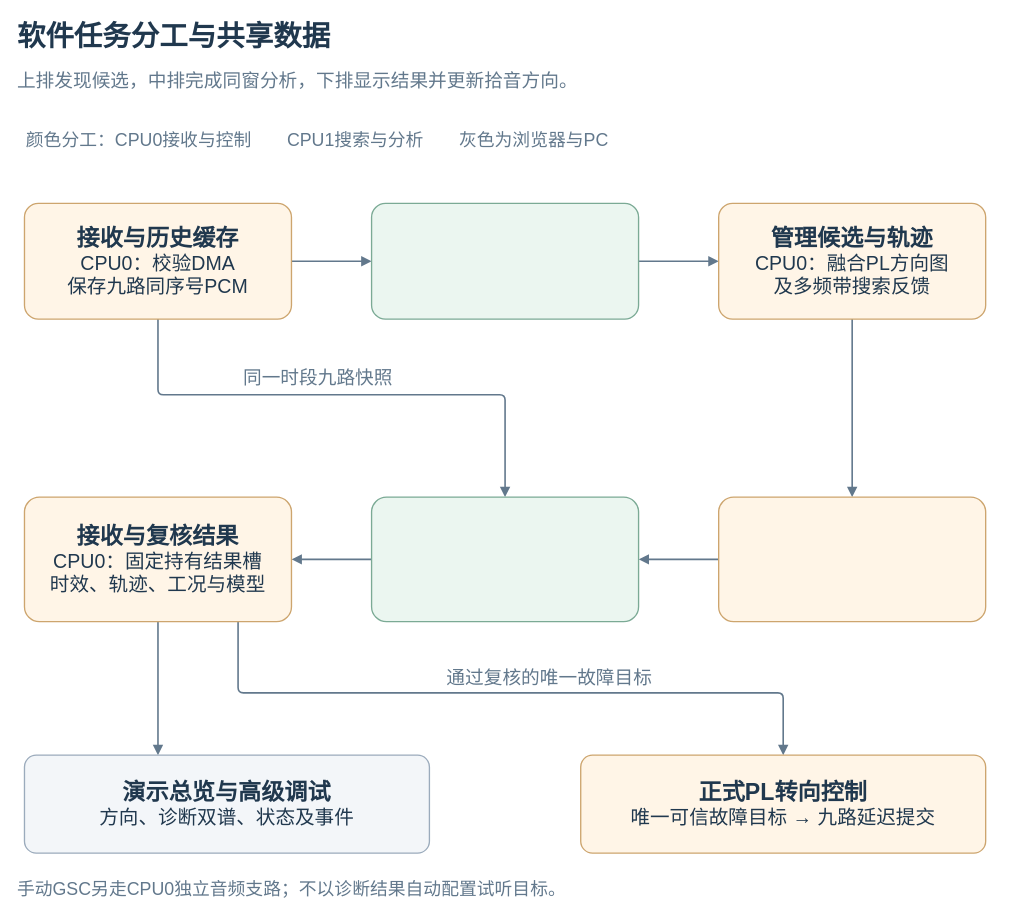
The diagram is 1009 pixels wide and 921 high, and some of its shapes have lost their labels. Here are the shapes that lost their labels. From the top down, the centre of each, then its label:
At pixel 505 260: "多频带联合搜索 CPU1：有效频带同网格评分 统一找峰并核对真实支持".
At pixel 505 559: "同窗分离与诊断 CPU1：复制快照并分离 提取包络、阶次及诊断".
At pixel 852 559: "发布诊断任务 CPU0：固定快照终点 绑定候选身份和转速代号".
